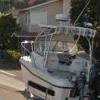Boat: (15, 18, 99, 99)
